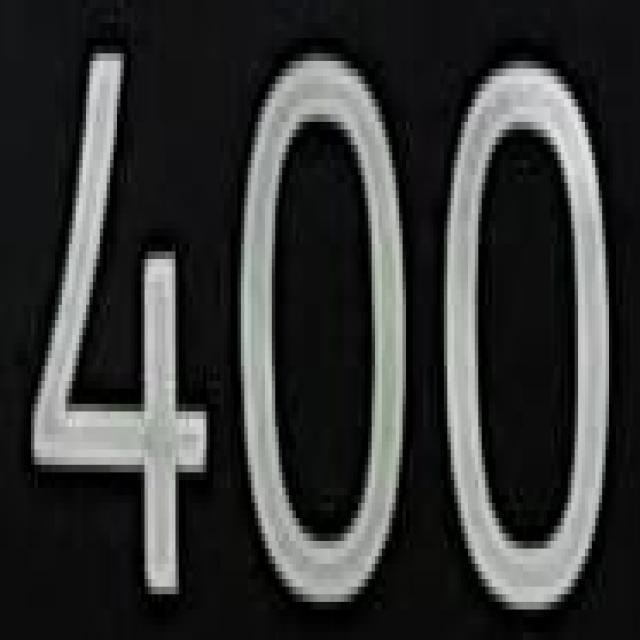character: (27, 38, 214, 611), (234, 46, 413, 610), (438, 47, 615, 617)
